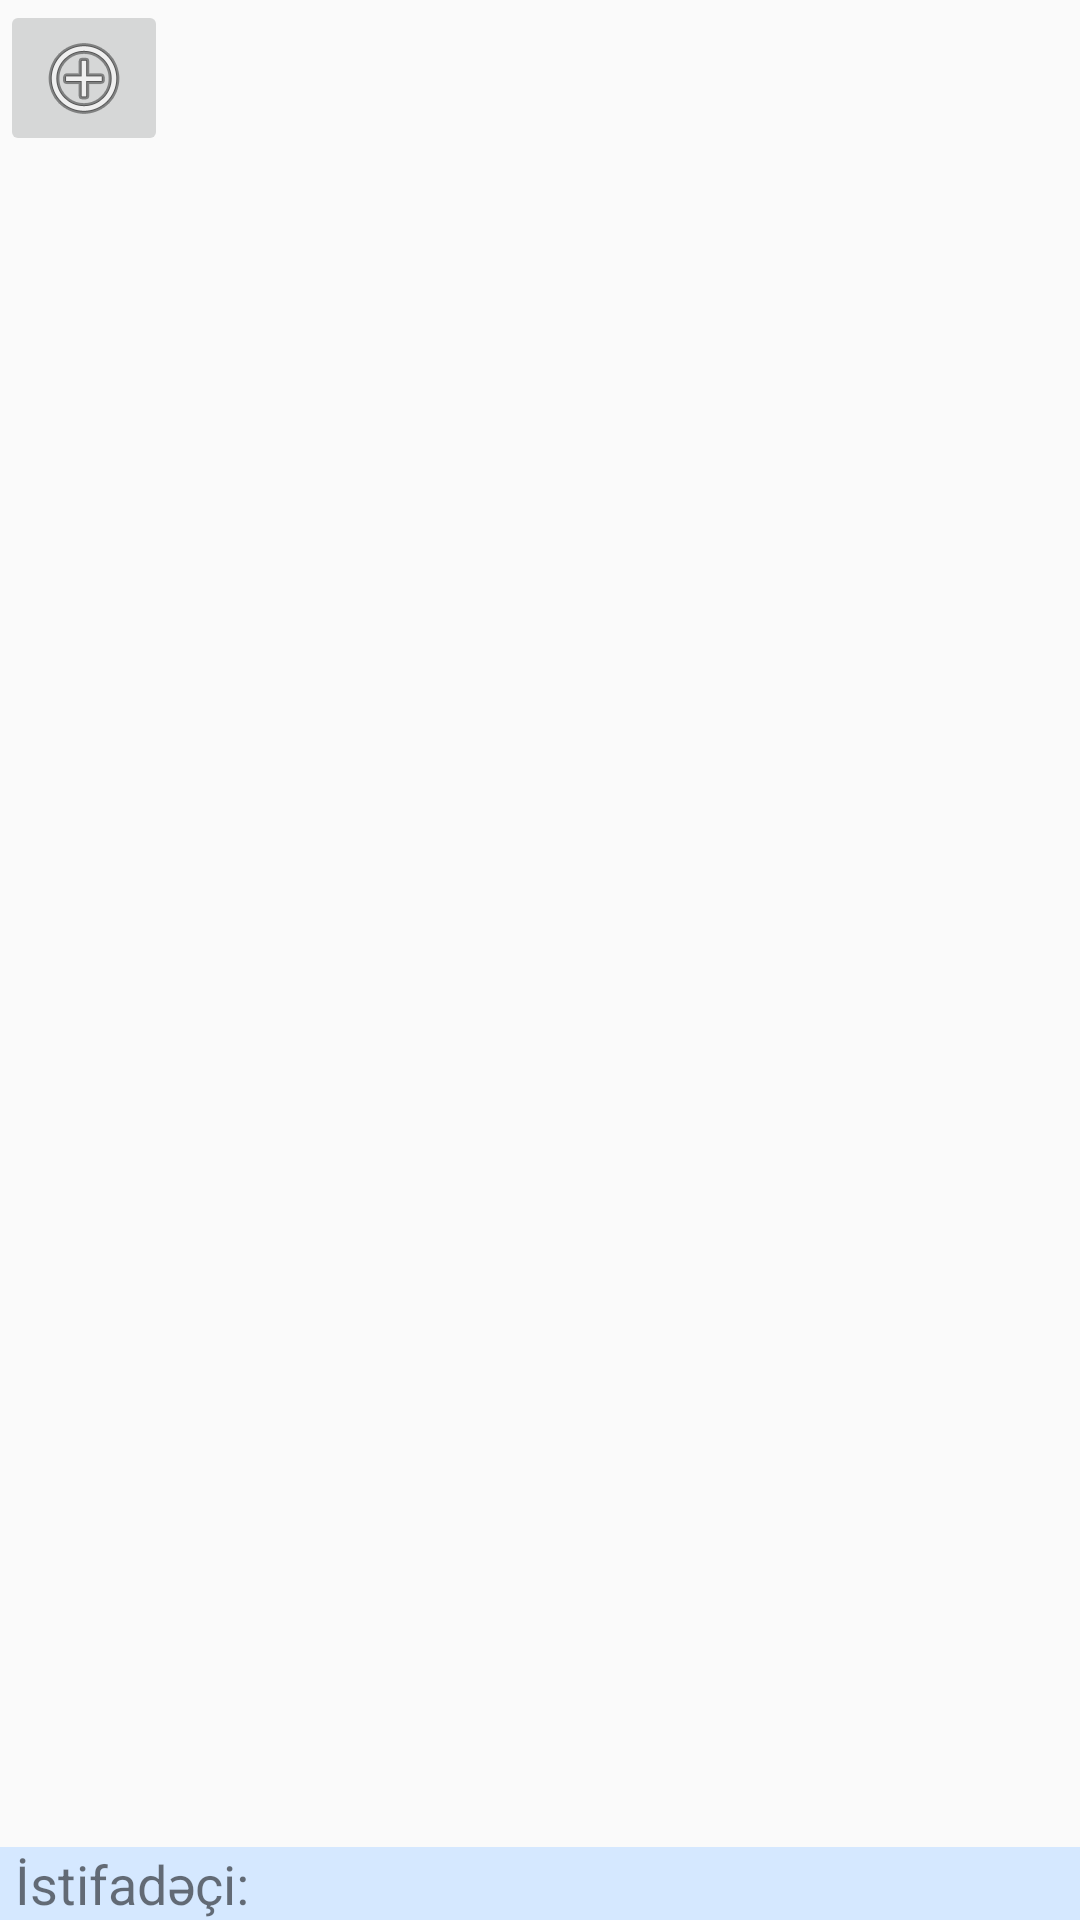

Icons on this 1080w x 1920h Android screen, each with the point to tap as (x=x, y=y):
Yeni: (x=84, y=78)
